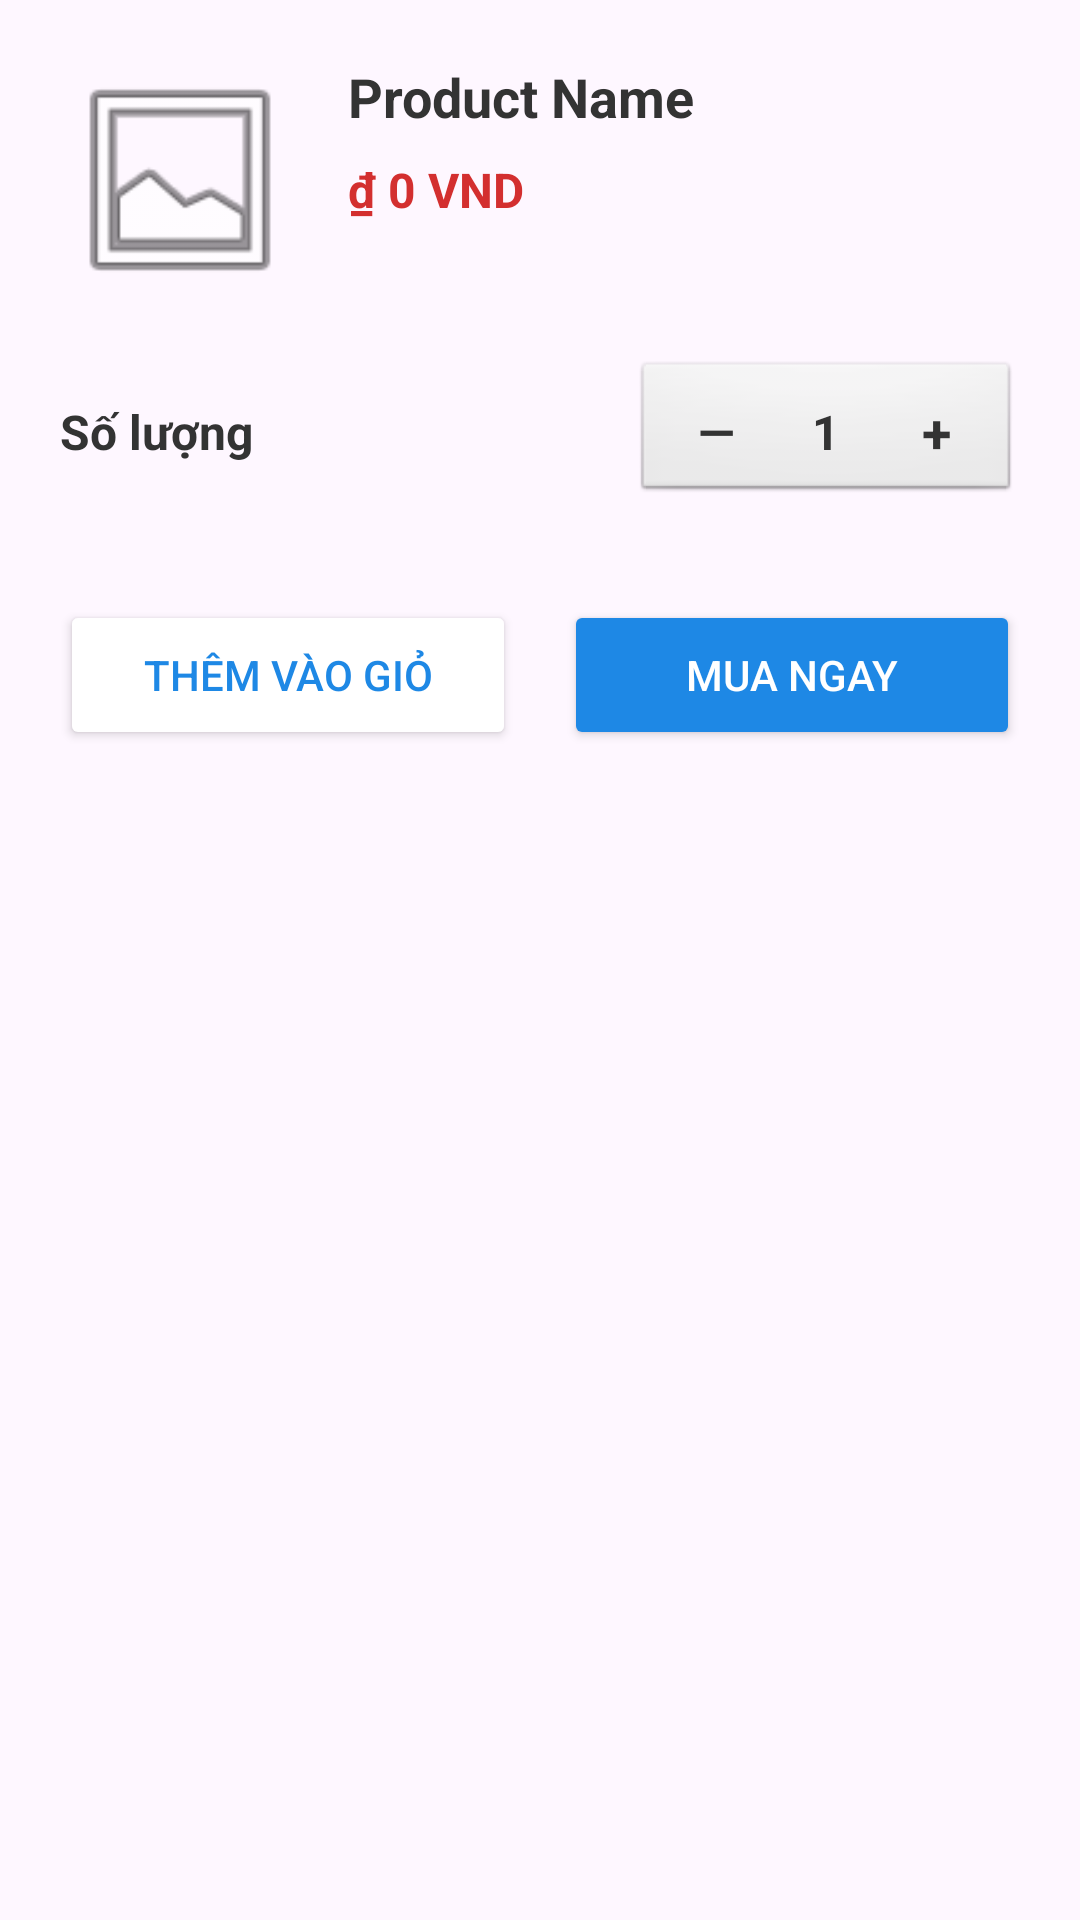

Where icons sit on this 1080x1920 app screen, as {"left": x1, "top": y1, "right": x2, "bottom": y2}:
gallery: {"left": 89, "top": 89, "right": 271, "bottom": 271}
